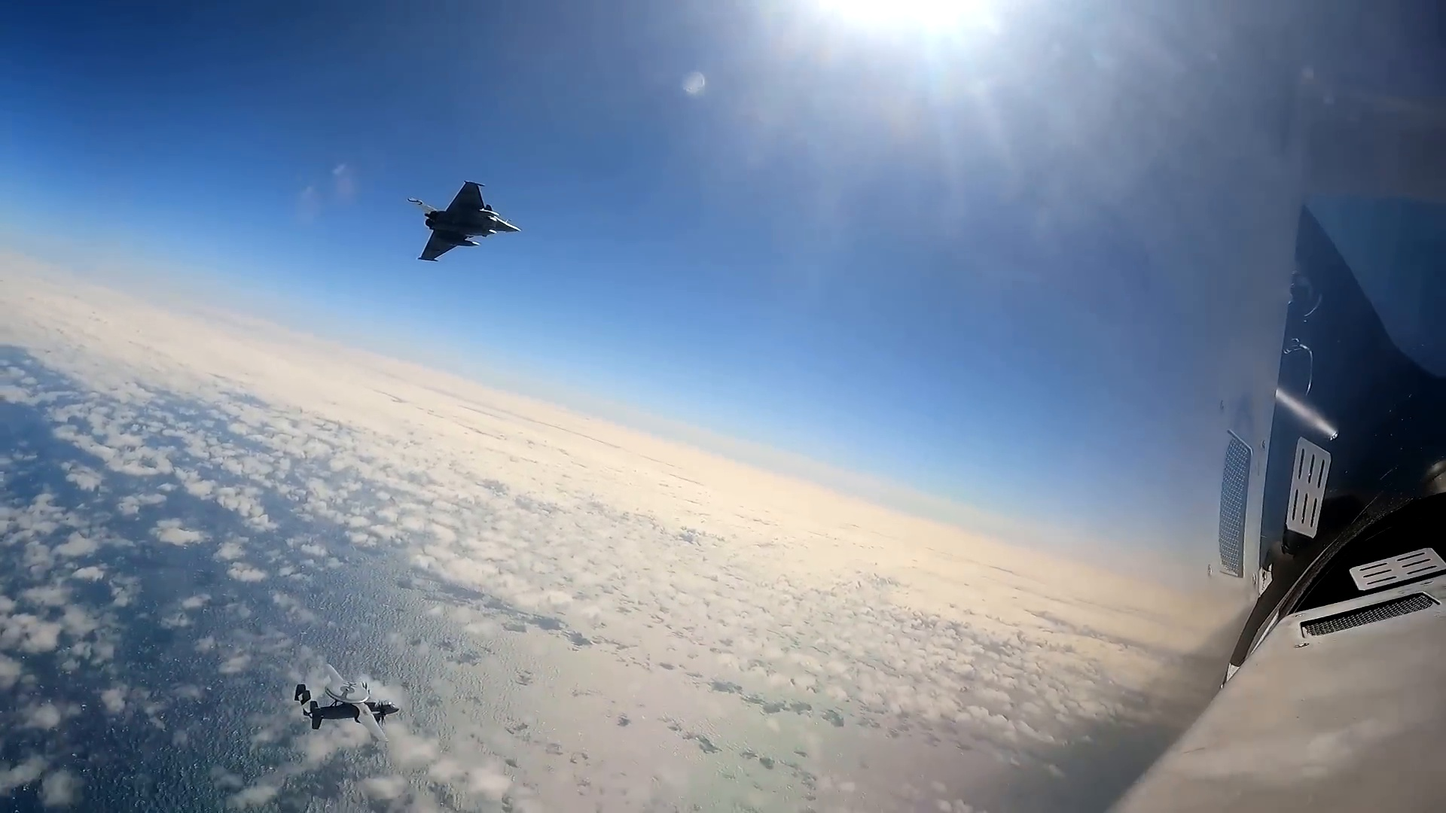Rafale: (408, 181, 521, 261)
